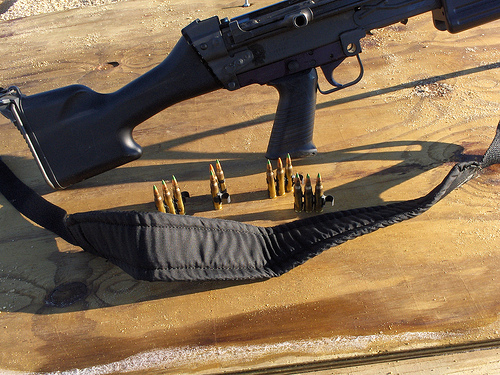rifle: (10, 3, 464, 184)
